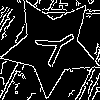Y: (26, 21, 82, 74)
